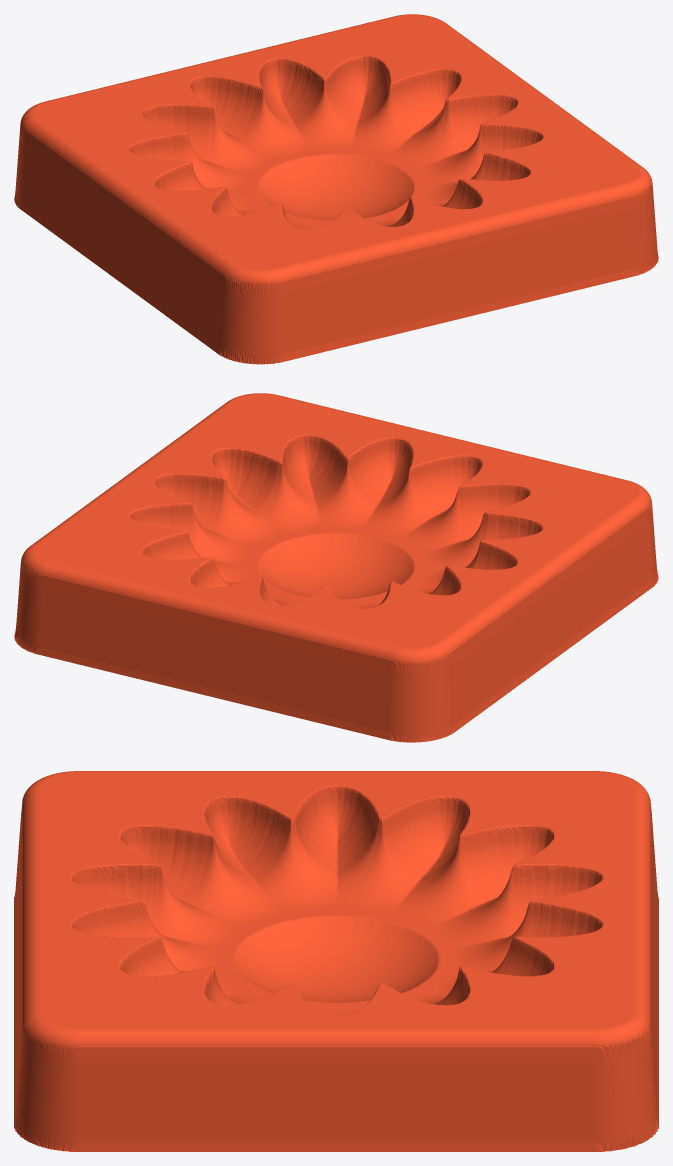
Rendered from mold.glb.
3 renders of one model, top to bottom at view 1: azimuth 30°, elevation 25°; view 2: azimuth 150°, elevation 25°; view 3: azimuth 270°, elevation 25°, orthographic. The views are drawn at different scales.
Visible parts, largest first — view 1: geometry_0; view 2: geometry_0; view 3: geometry_0.
Part boxes in pixels (x1,y1,x2,y2): geometry_0: [14, 14, 658, 364]; geometry_0: [14, 393, 658, 742]; geometry_0: [14, 771, 658, 1151].
Size of the model in its own units: 0.0924 by 0.0175 by 0.0908.
